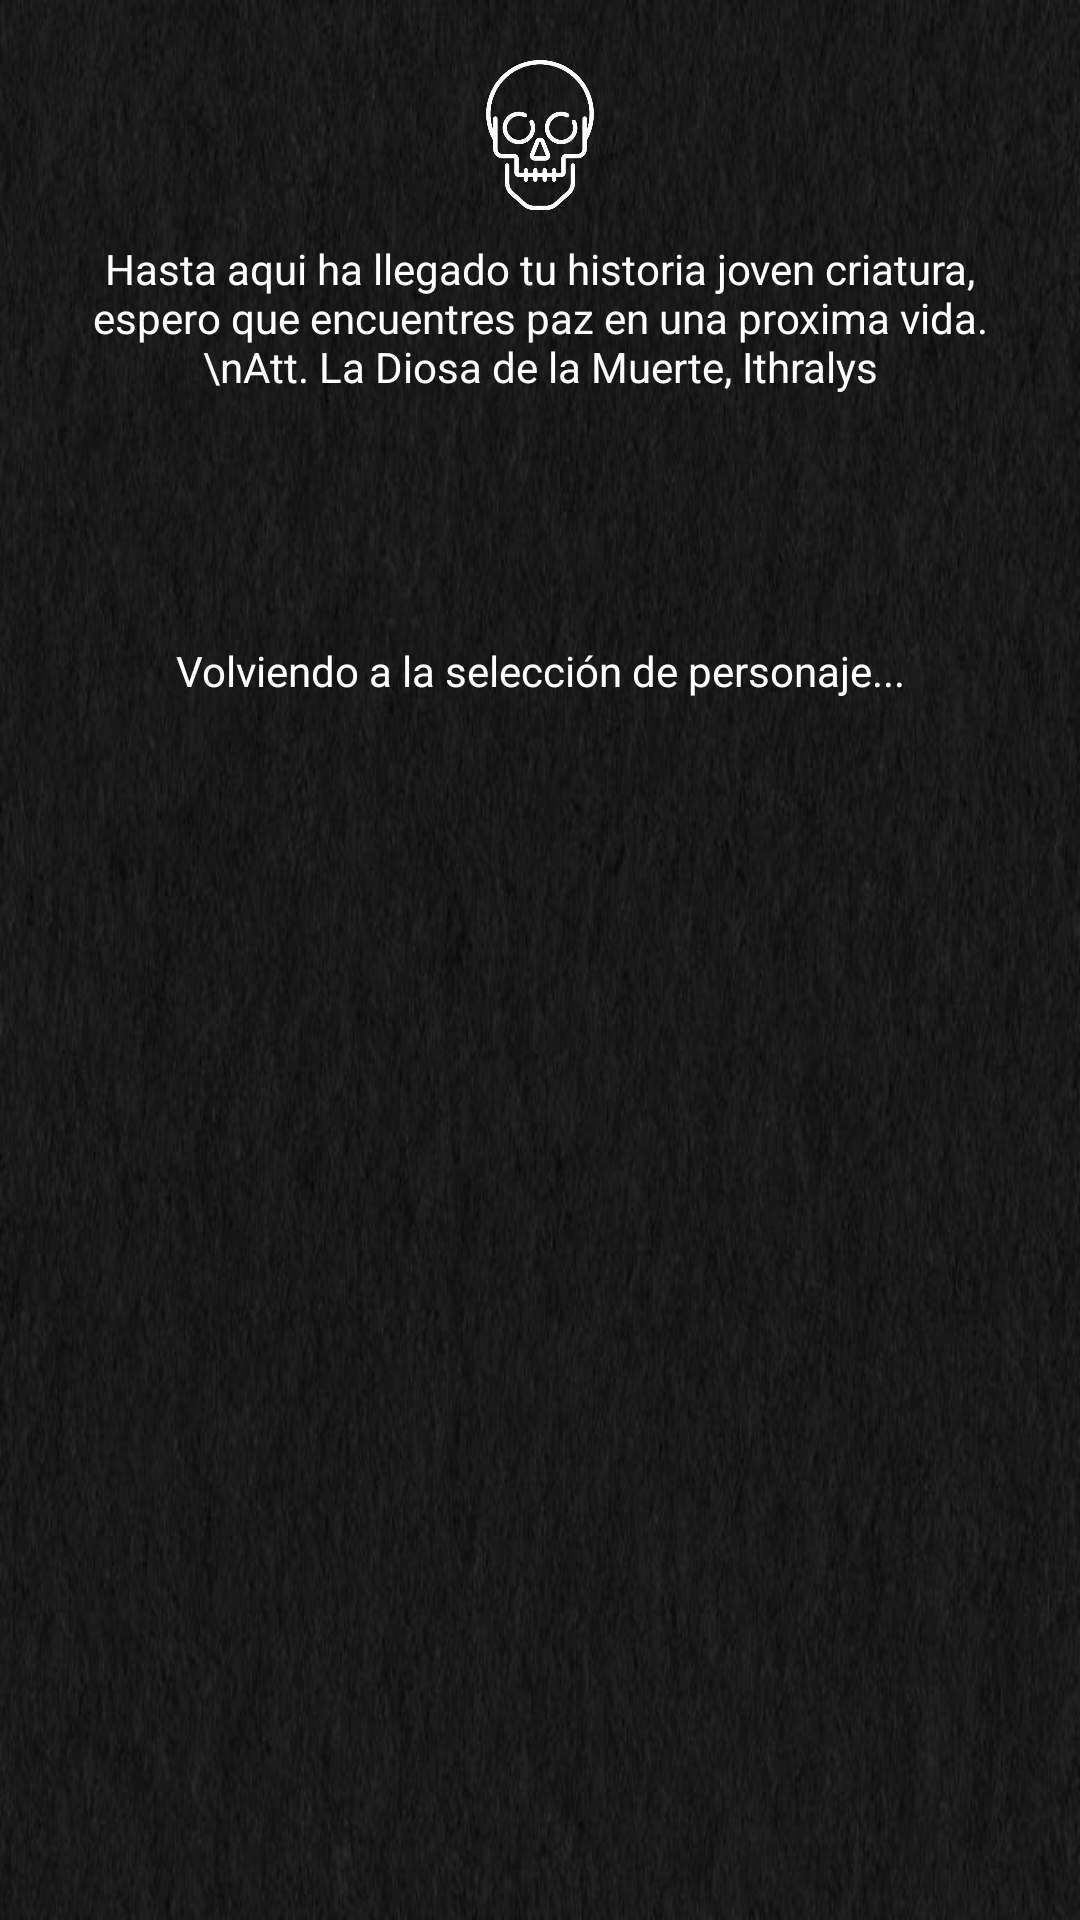

Where icons sit on this 1080 x 1920 app screen, as Rect(x1, y1, x2, y2):
skull: Rect(486, 60, 594, 210)
